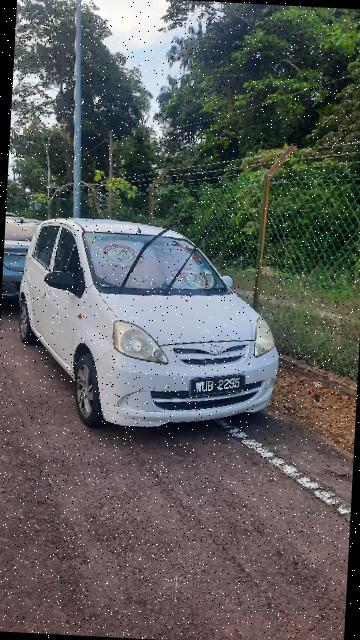License_Plate: (184, 369, 249, 402)
car: (12, 213, 291, 443)
